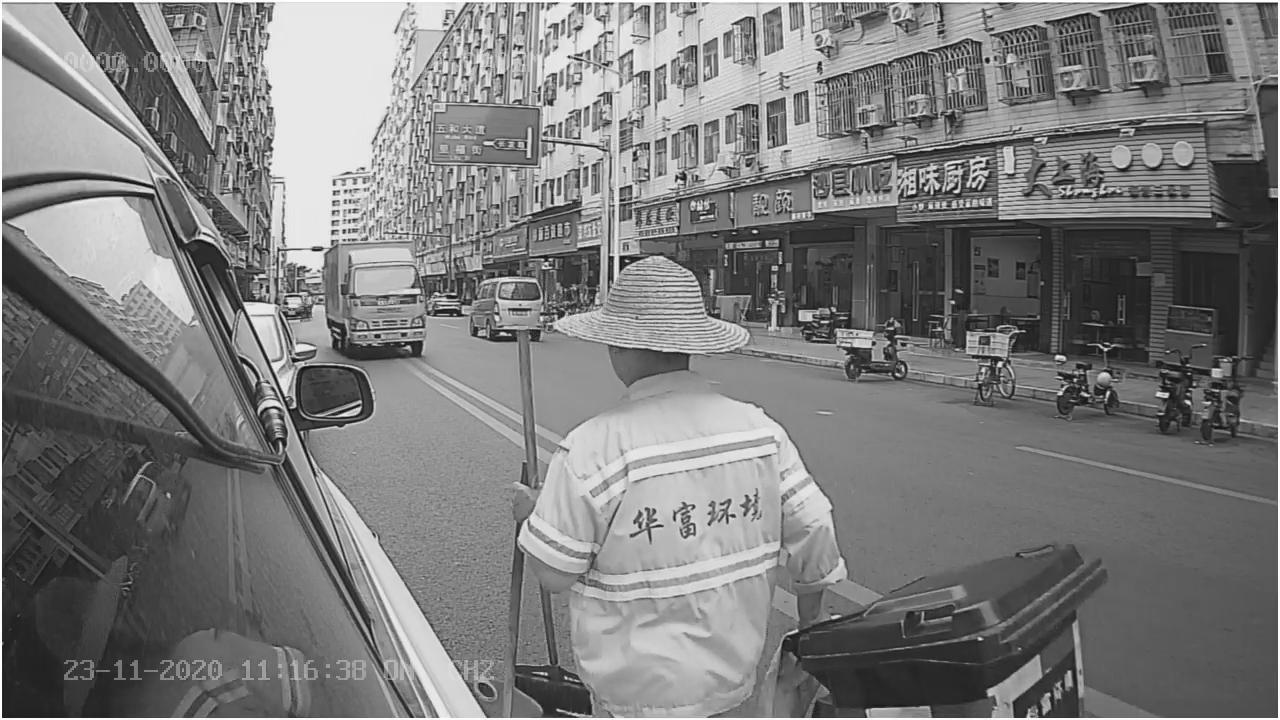person: (544, 257, 850, 612)
